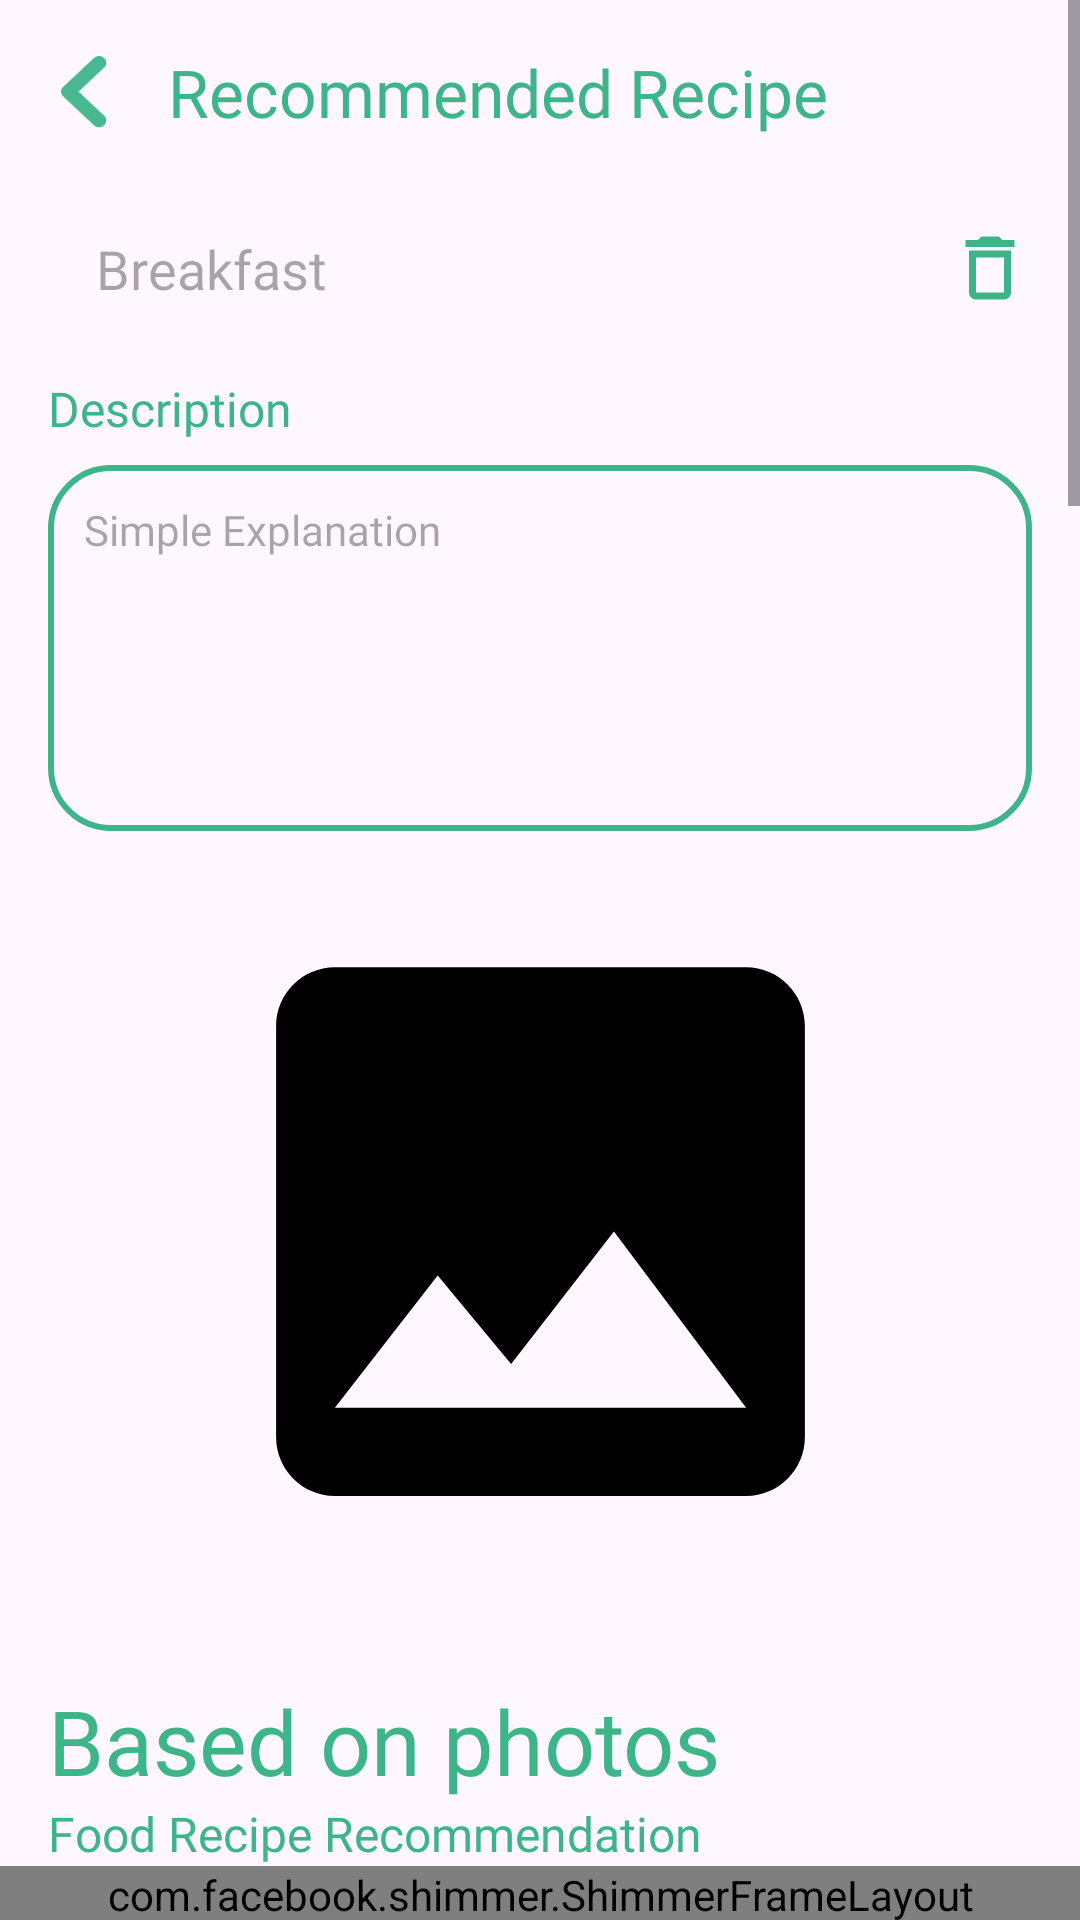

Icons on this 1080*1920 Android screen, each with its box as (x1, y1, x2, y2):
Back: (61, 56, 107, 128)
Delete Confirmation: (965, 236, 1015, 300)
